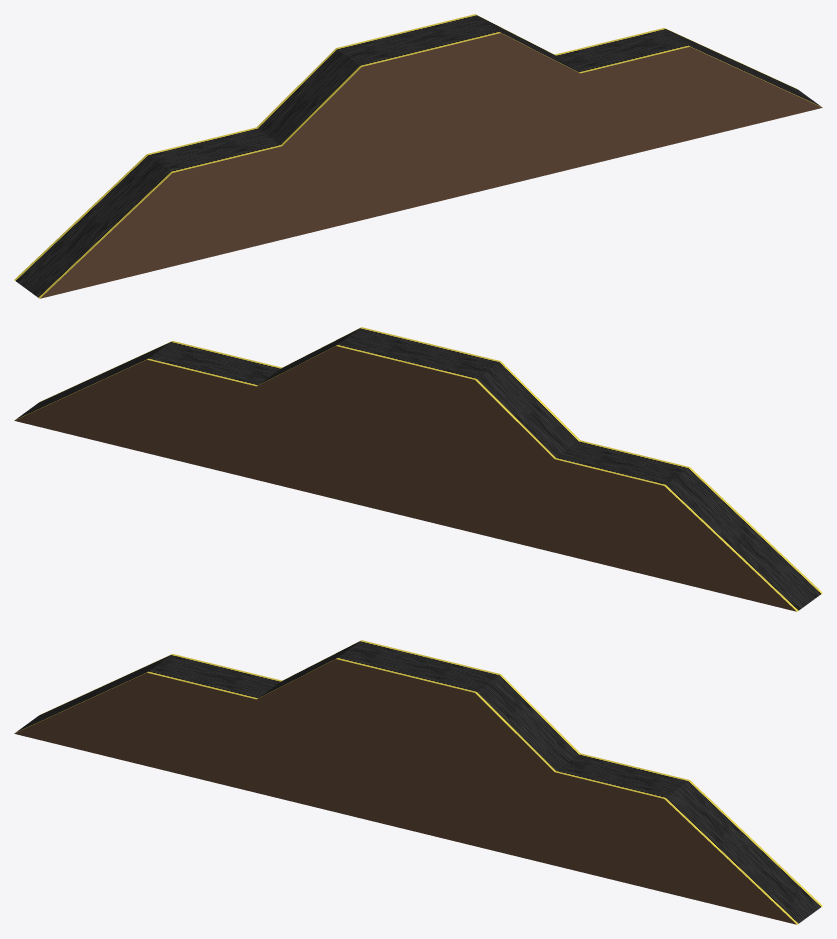
Rendered from rampa4.fbx.
3 renders of one model, top to bottom at view 1: azimuth 30°, elevation 25°; view 2: azimuth 150°, elevation 25°; view 3: azimuth 330°, elevation 25°, orthographic.
Visible parts, largest first — view 1: Cube.003; view 2: Cube.003; view 3: Cube.003.
Boxes of the visible parts, box(x1,y1,x2,y2) form: Cube.003: box(14, 14, 822, 298); Cube.003: box(14, 327, 822, 611); Cube.003: box(14, 640, 822, 924).
Size of the model in its own units: 43.83 by 8.2 by 2.5.
Materials: 2 (1 with a texture image).
